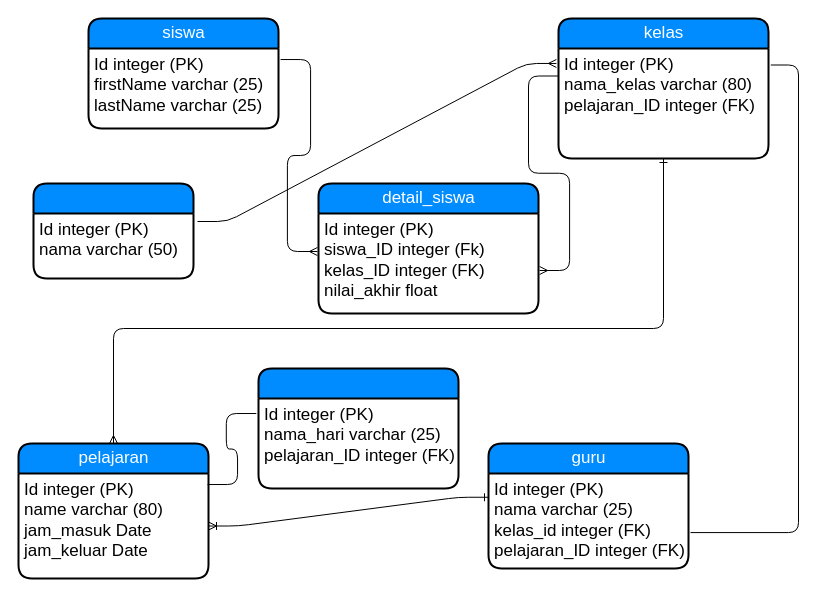
This 817x599 diagram has some shape labels left out. Each missing label, with the box of its shape:
jadwal: (257, 367, 459, 489)
Jurusan: (32, 182, 194, 279)
